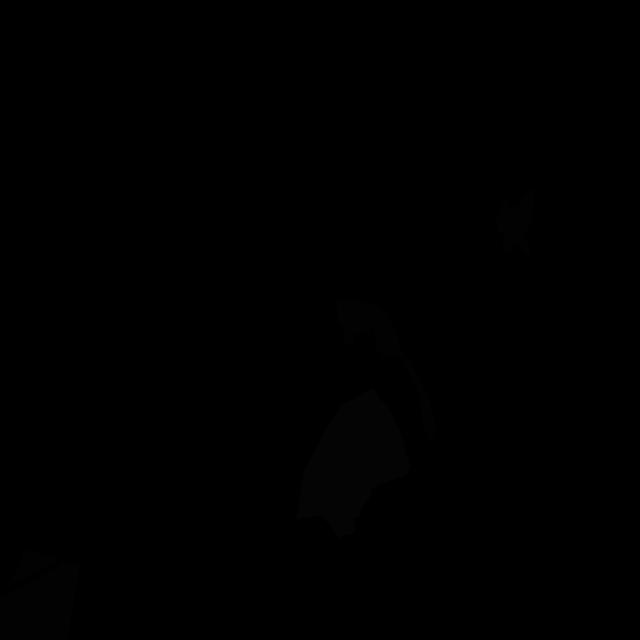cardboard: (336, 299, 436, 445), (0, 549, 80, 640), (495, 188, 534, 257)
soft_plastic: (296, 387, 410, 540)
